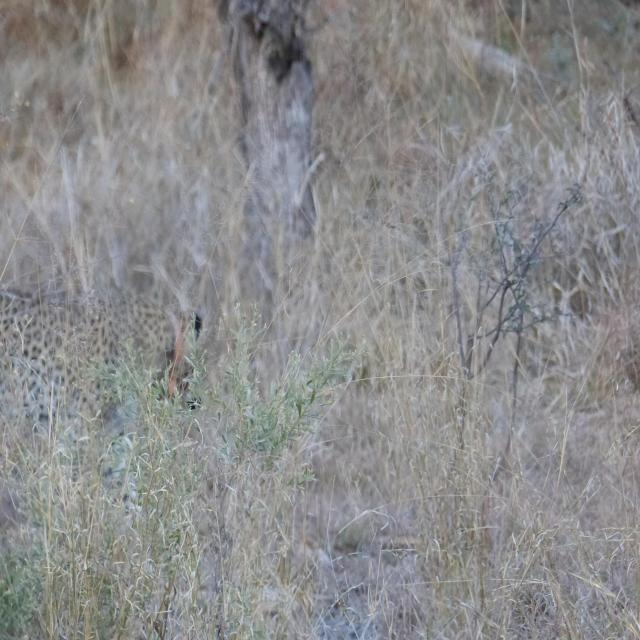Leopard: (0, 287, 215, 528)
